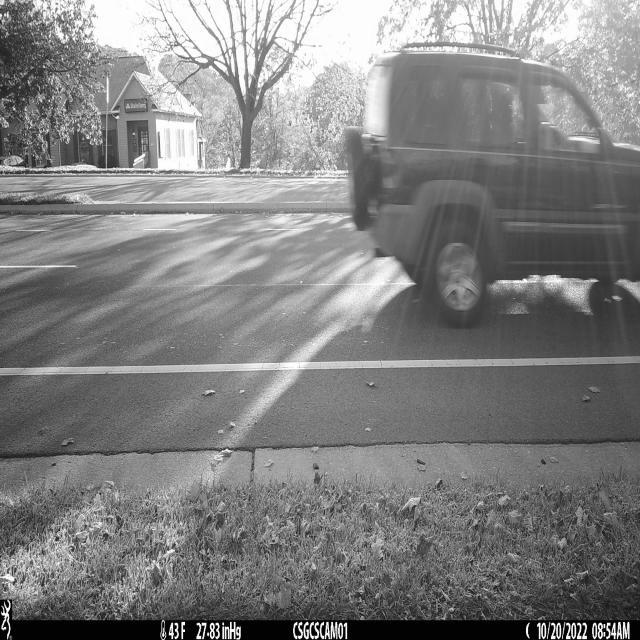SUV: (344, 46, 640, 329)
